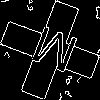M: (25, 25, 81, 83)
